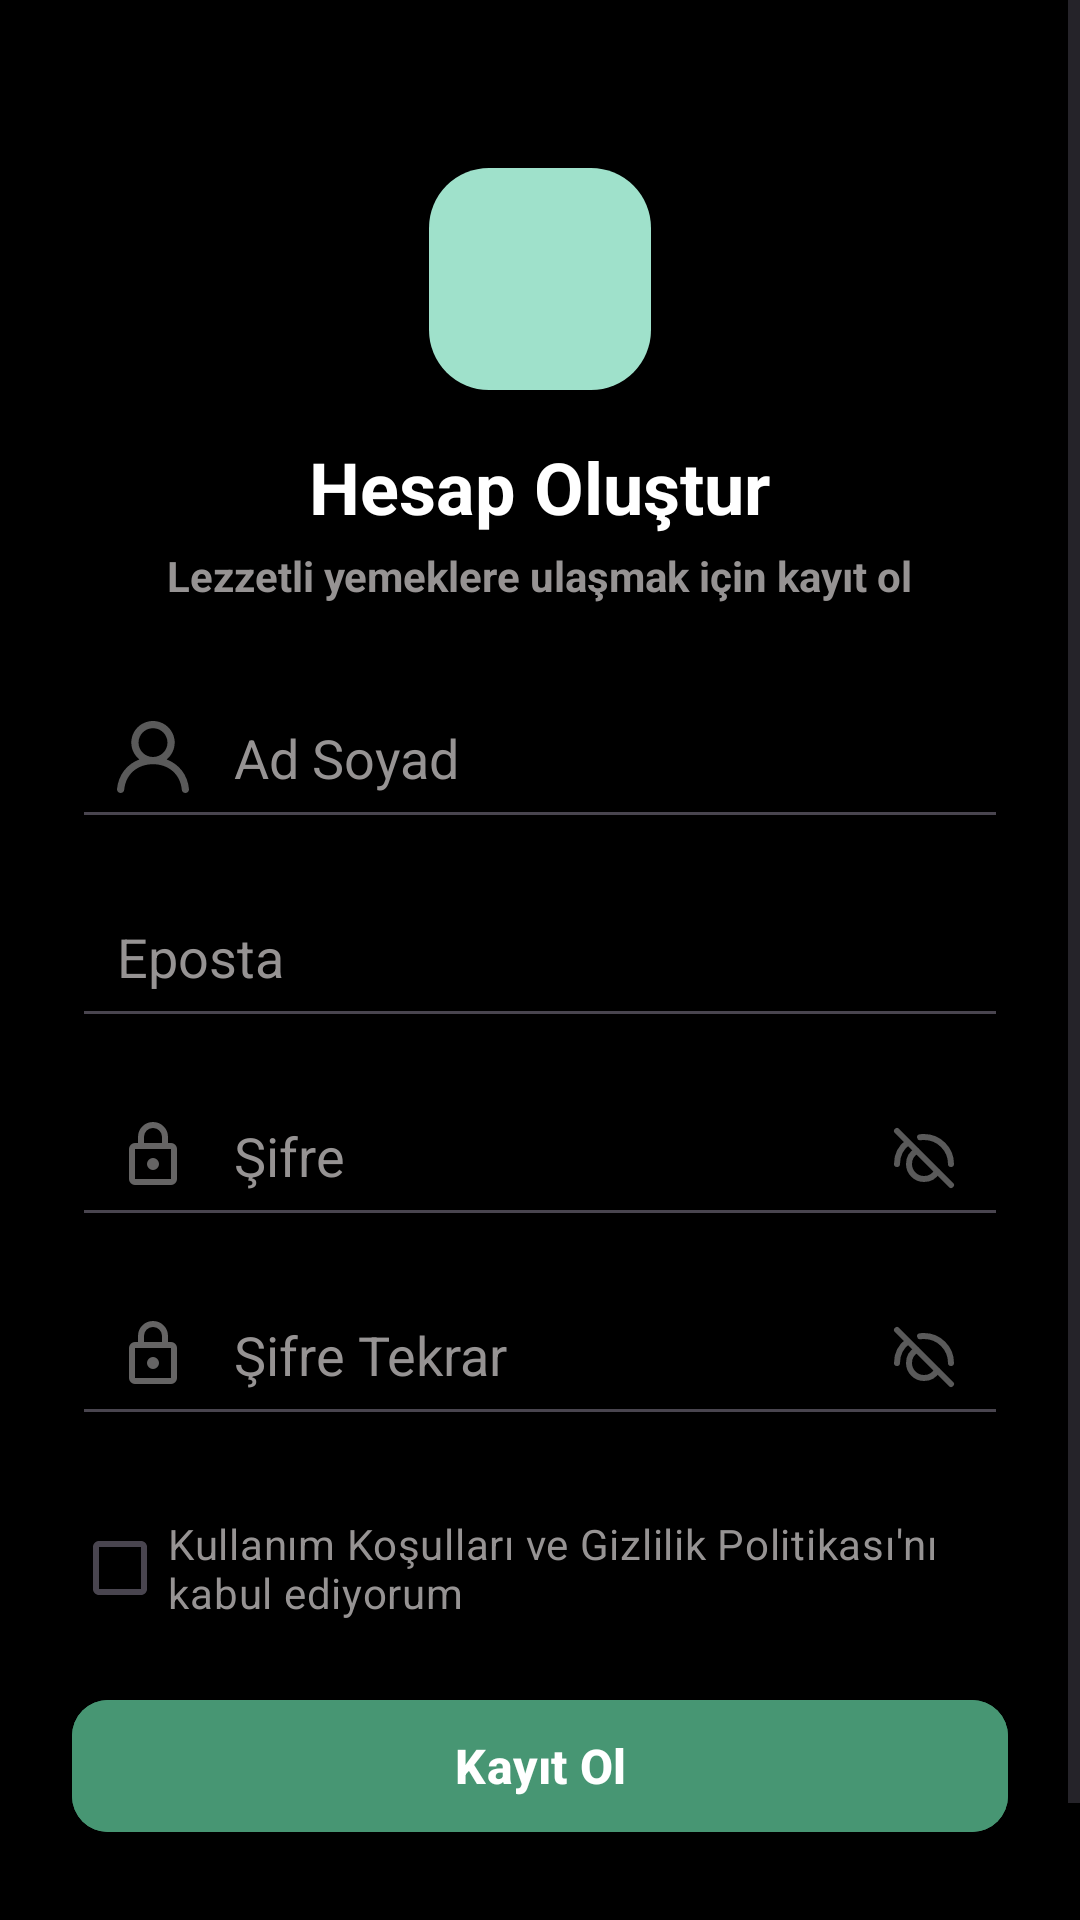

Named icons in this screenshot (1080px×1920px) and their bounding boxes, detection(x1, y1, x2, y2):
eye hide: detection(894, 1128, 954, 1188), detection(894, 1327, 954, 1387)
